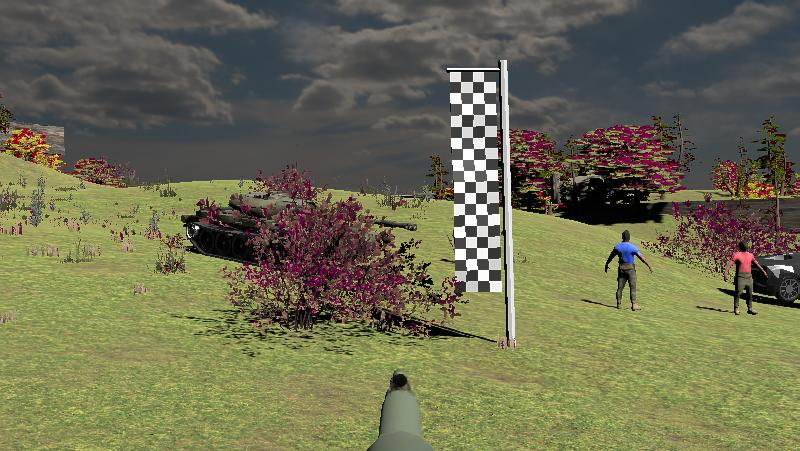Human: (605, 230, 652, 312), (724, 239, 768, 315)
Tank: (180, 192, 323, 264)
car: (748, 246, 800, 305)
